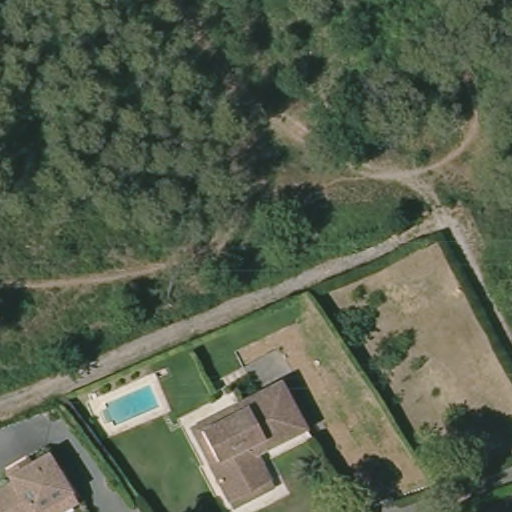pool: (96, 383, 164, 429)
